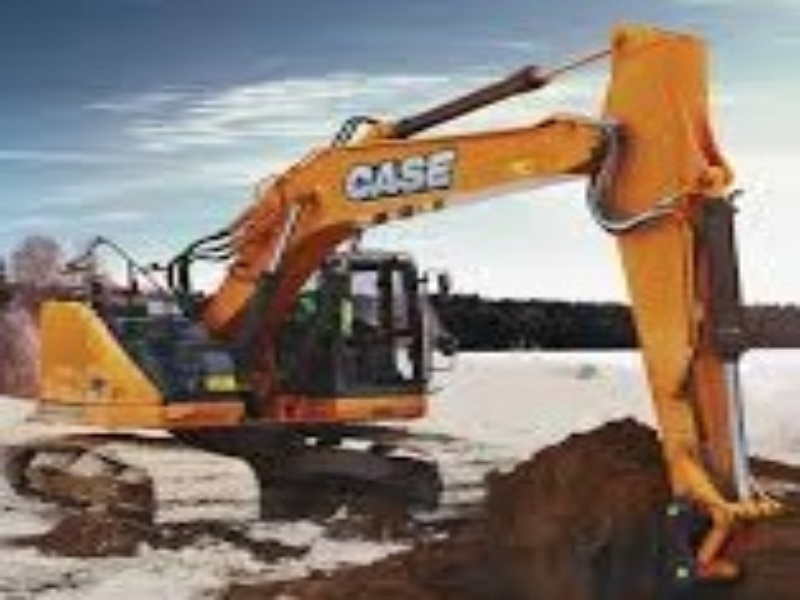wajueji: (14, 168, 498, 537)
